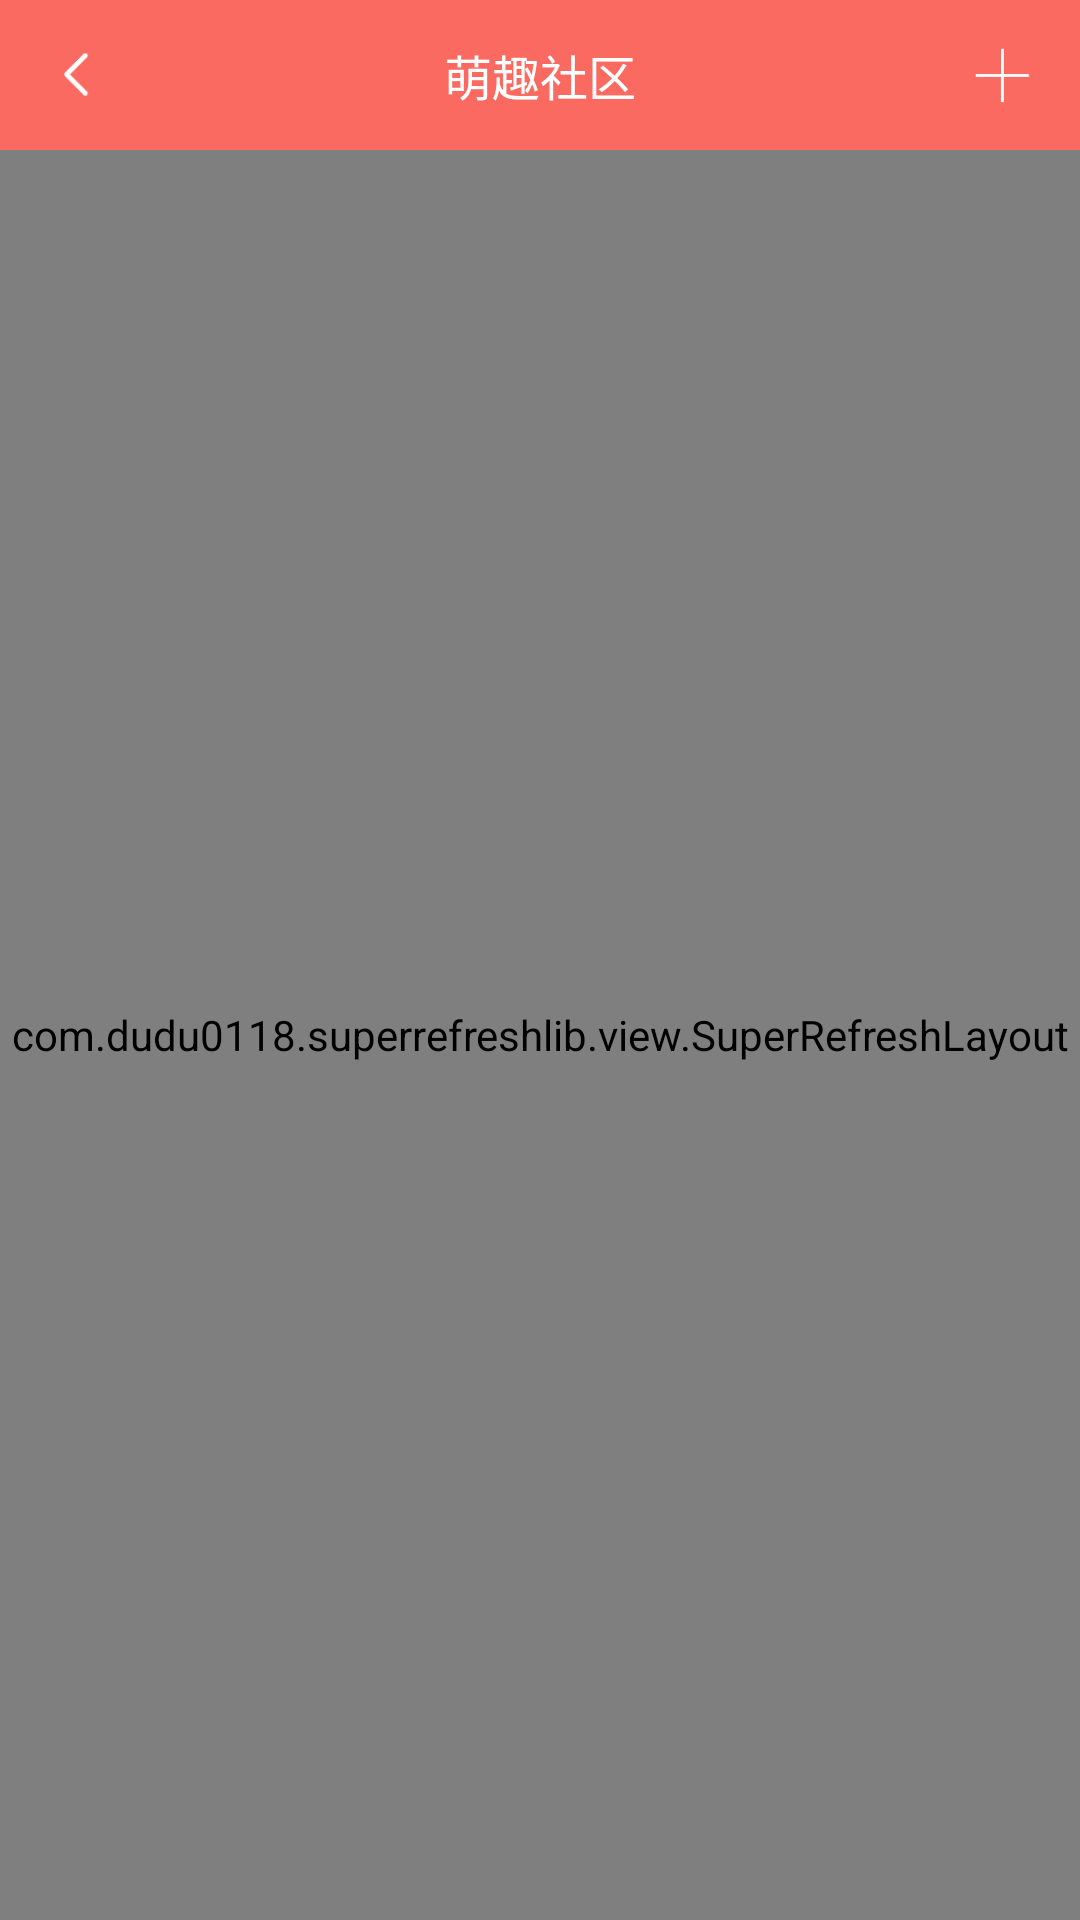

Screen size 1080w x 1920h. Icon name, then its box in pixels as region(x1, y1, x2, y2):
add topic: region(975, 48, 1029, 102)
back: region(64, 53, 88, 96)
